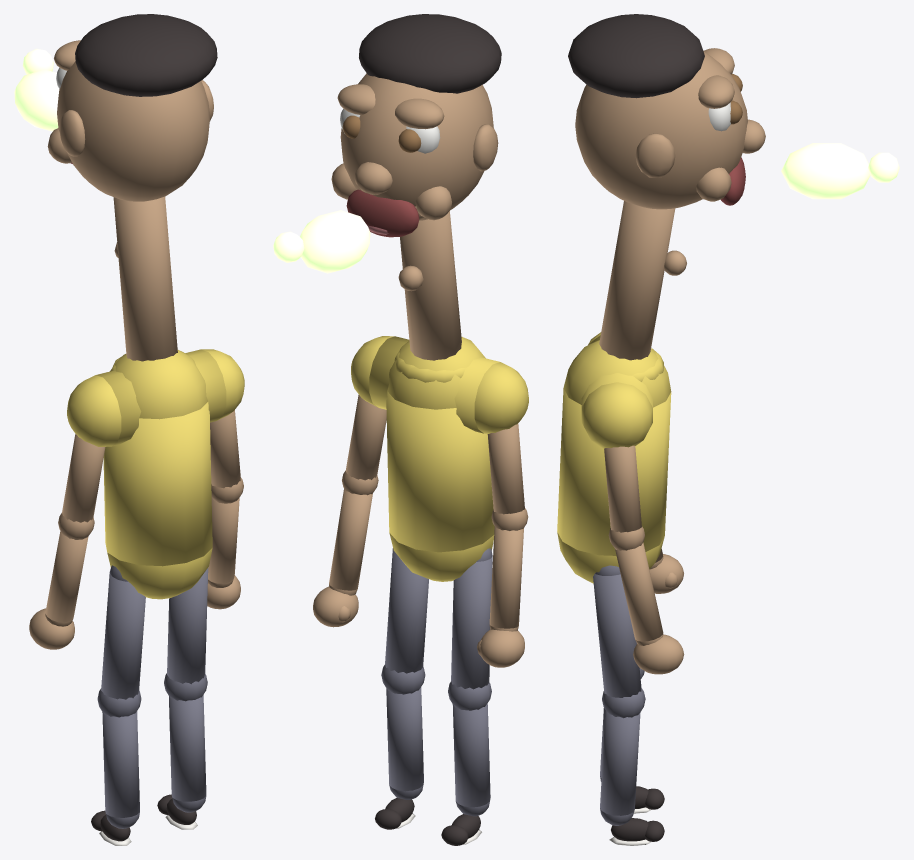
Rendered from P2_Giraffe.fbx.
3 views of the same model, side by side, from view 1: azimuth 30°, elevation 25°; view 2: azimuth 150°, elevation 25°; view 3: azimuth 270°, elevation 25° (orthographic).
Parts seen in each view (by area): view 1: Torso, Head, LegL, LegR, Neck, ArmL, ArmR, BadBreath; view 2: Head, Torso, LegL, LegR, ArmL, ArmR, Neck, BadBreath; view 3: Head, Torso, LegR, Neck, ArmR, BadBreath, ArmL, LegL.
Boxes of the visible parts, x1=… form: Torso: x1=67, y1=349, x2=244, y2=599; Head: x1=47, y1=14, x2=217, y2=201; LegL: x1=91, y1=565, x2=145, y2=845; LegR: x1=157, y1=567, x2=208, y2=829; Neck: x1=113, y1=196, x2=177, y2=361; ArmL: x1=29, y1=434, x2=105, y2=649; ArmR: x1=207, y1=410, x2=243, y2=609; BadBreath: x1=14, y1=48, x2=59, y2=131; Head: x1=331, y1=14, x2=501, y2=237; Torso: x1=351, y1=336, x2=528, y2=581; LegL: x1=441, y1=548, x2=492, y2=845; LegR: x1=375, y1=548, x2=428, y2=829; ArmL: x1=477, y1=423, x2=528, y2=667; ArmR: x1=313, y1=394, x2=386, y2=627; Neck: x1=398, y1=211, x2=461, y2=360; BadBreath: x1=273, y1=210, x2=370, y2=273; Head: x1=568, y1=14, x2=765, y2=209; Torso: x1=557, y1=332, x2=671, y2=583; LegR: x1=593, y1=565, x2=664, y2=845; Neck: x1=599, y1=201, x2=686, y2=360; ArmR: x1=604, y1=445, x2=684, y2=674; BadBreath: x1=781, y1=143, x2=899, y2=199; ArmL: x1=649, y1=549, x2=683, y2=593; LegL: x1=600, y1=668, x2=664, y2=813.
Size of the model in its own units: 74 by 278 by 108.
